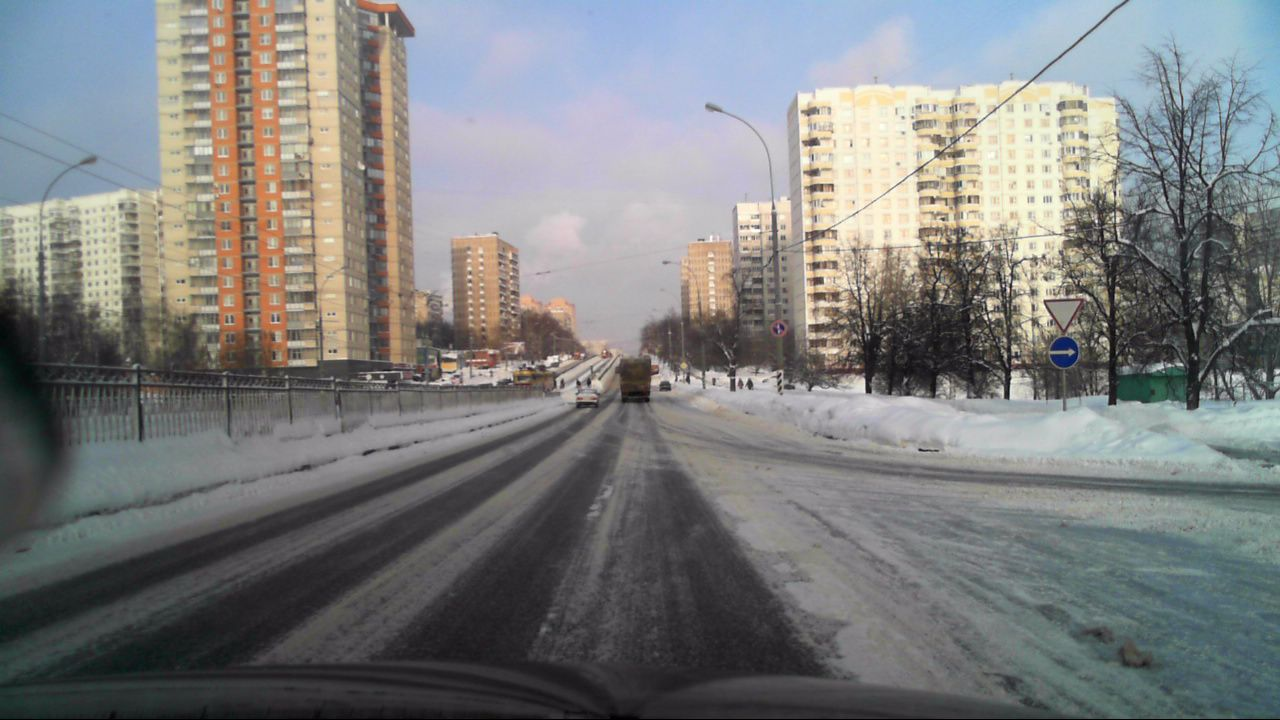Turn Right: (1048, 336, 1079, 369)
